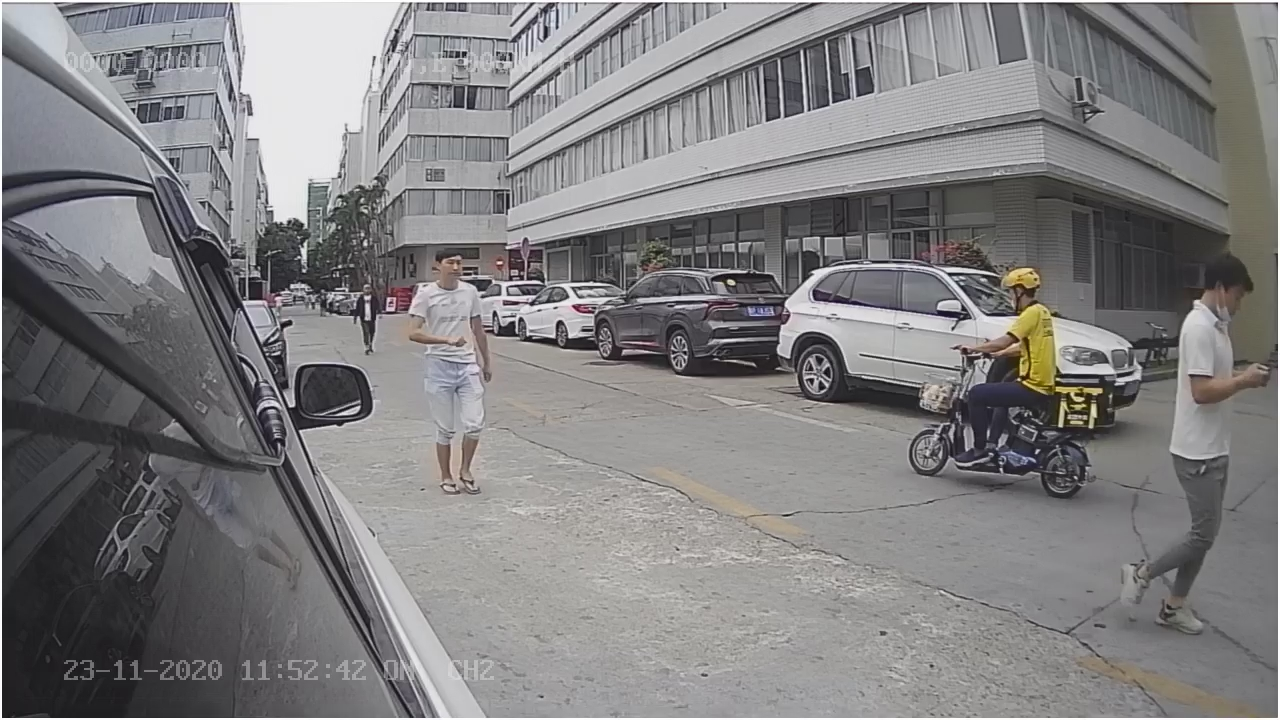person: (406, 247, 496, 492), (951, 261, 1068, 363)
